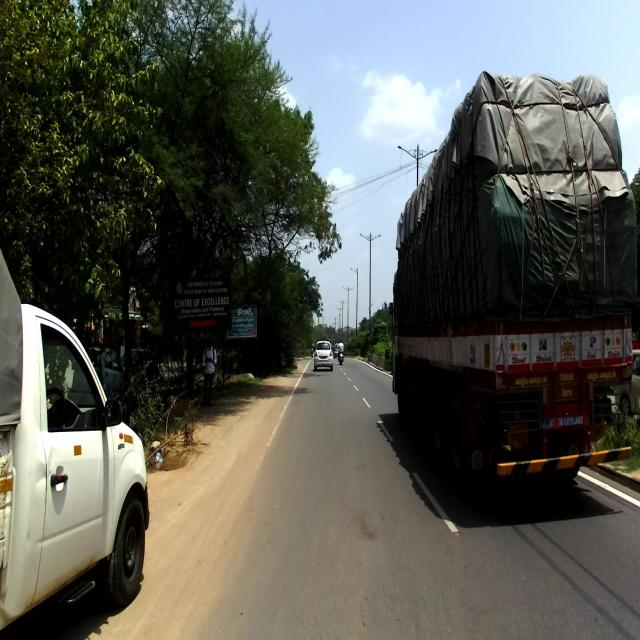Car_Maruti-Suzuki: (312, 339, 334, 372)
truck: (388, 70, 640, 493), (0, 249, 149, 639)
